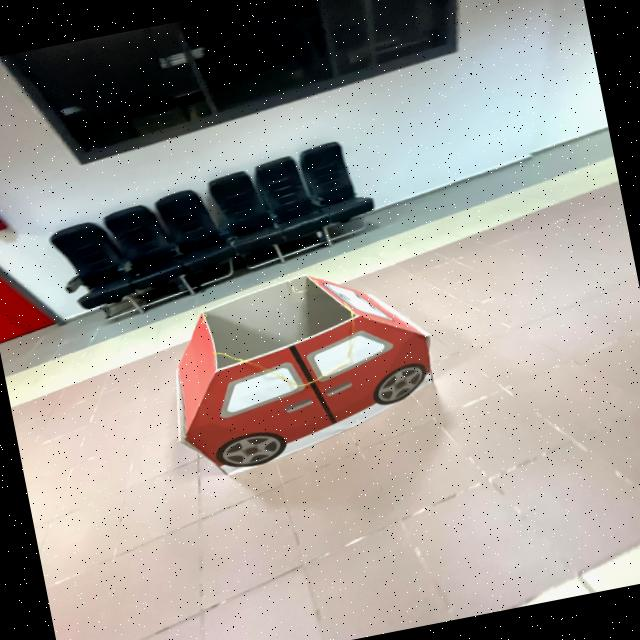red_car: (133, 243, 476, 506)
